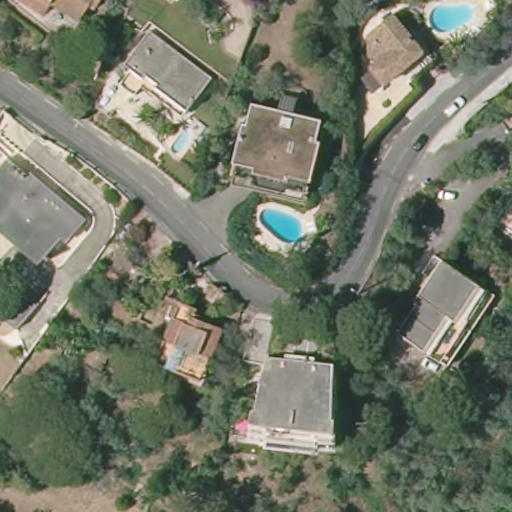pool: (257, 205, 308, 245), (426, 1, 477, 32), (169, 125, 200, 155)
